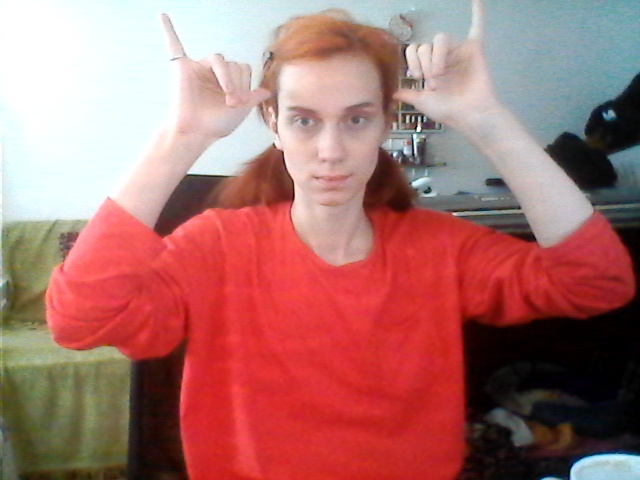krava: (148, 1, 512, 140)
